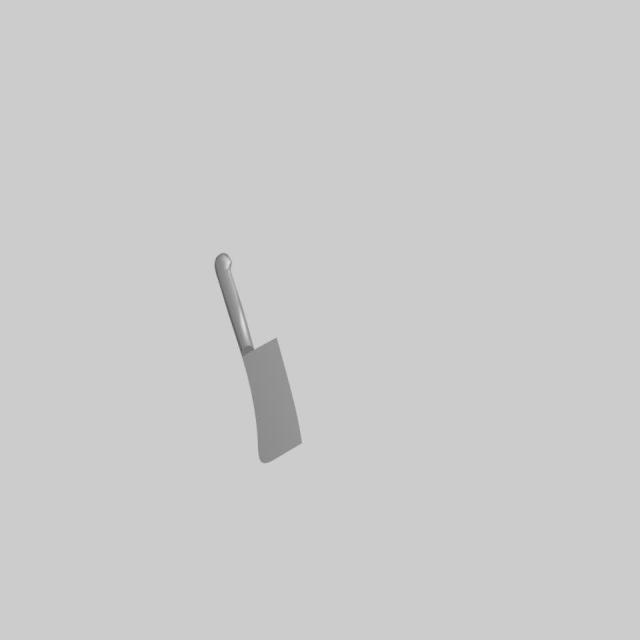knife: (215, 253, 254, 357)
